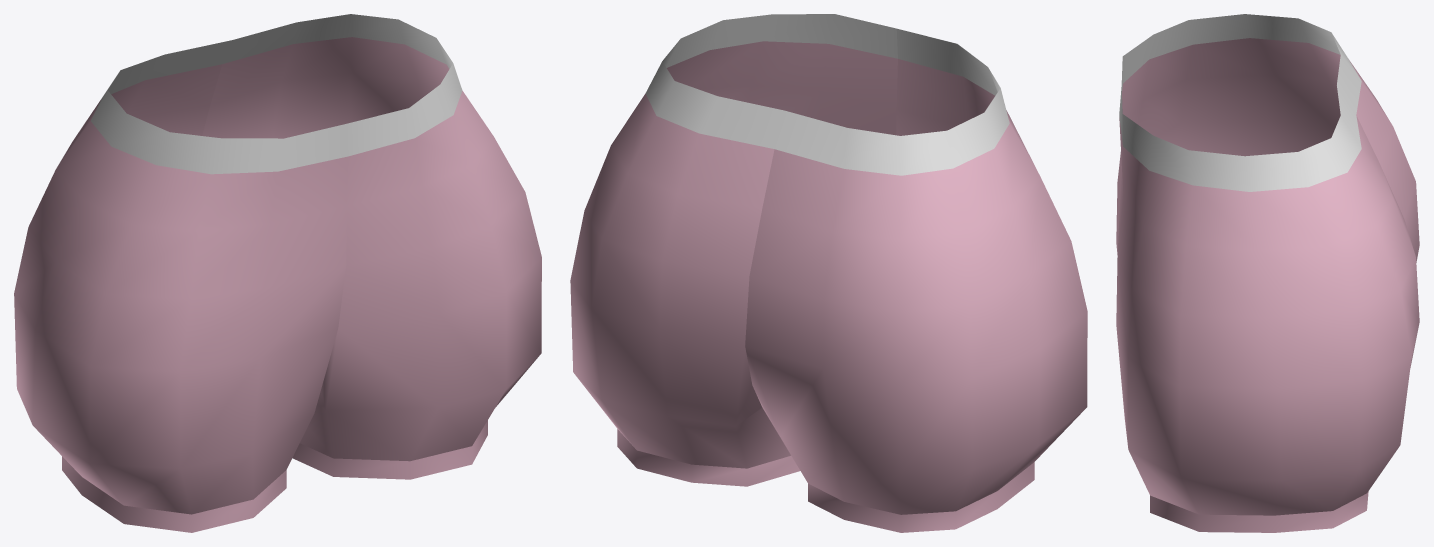
File: bubble_short_1.glb
3 renders of one model, left to right at view 1: azimuth 30°, elevation 25°; view 2: azimuth 150°, elevation 25°; view 3: azimuth 270°, elevation 25°, orthographic. The views are drawn at different scales.
Parts seen in each view (by area): view 1: bubble_short; view 2: bubble_short; view 3: bubble_short.
Part boxes in pixels (box(x1,y1,x2,y2)): bubble_short: box(14, 14, 541, 532); bubble_short: box(570, 14, 1087, 532); bubble_short: box(1116, 14, 1419, 532).
Bounding box in the file's own units: 0.3718 × 0.2995 × 0.2262.
